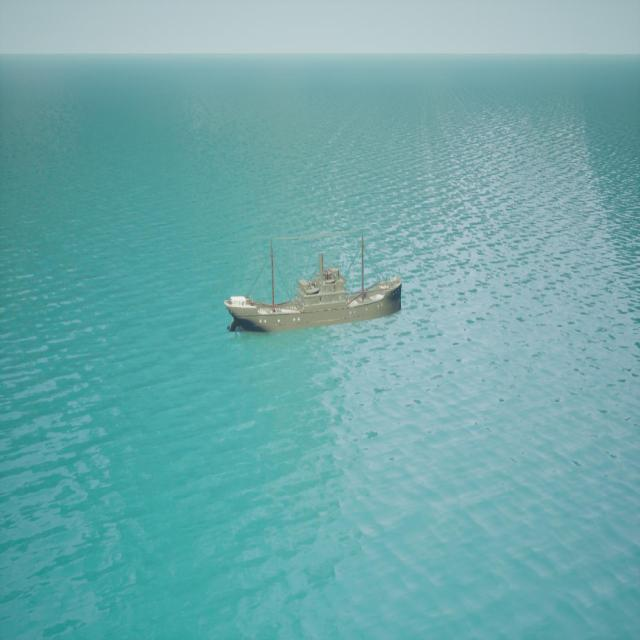fishing ship: (227, 237, 406, 337)
